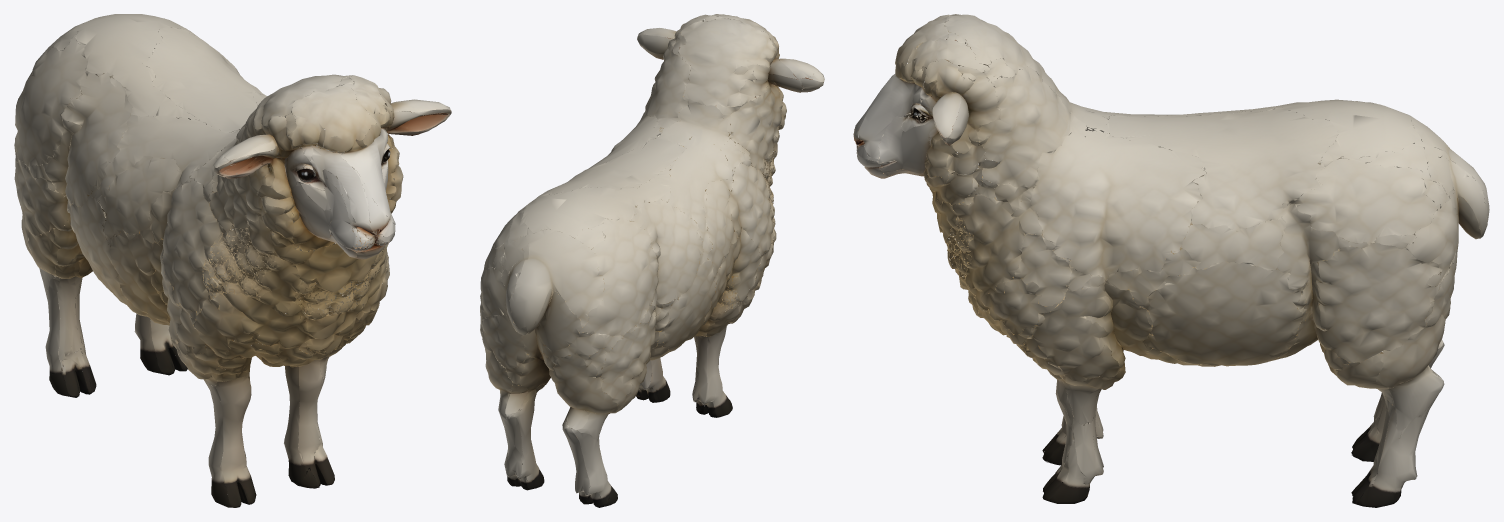
Rendered from sheep.glb.
3 views of the same model, side by side, from view 1: azimuth 30°, elevation 25°; view 2: azimuth 150°, elevation 25°; view 3: azimuth 270°, elevation 25° (orthographic). The views are drawn at different scales.
Parts seen in each view (by area): view 1: node_0; view 2: node_0; view 3: node_0.
Part boxes in pixels (x1,y1,x2,y2): node_0: (14,14,451,507); node_0: (480,14,824,507); node_0: (853,14,1489,507).
Bounding box in the file's own units: 0.4717 × 0.8523 × 1.09.
Materials: 1 (1 with a texture image).
